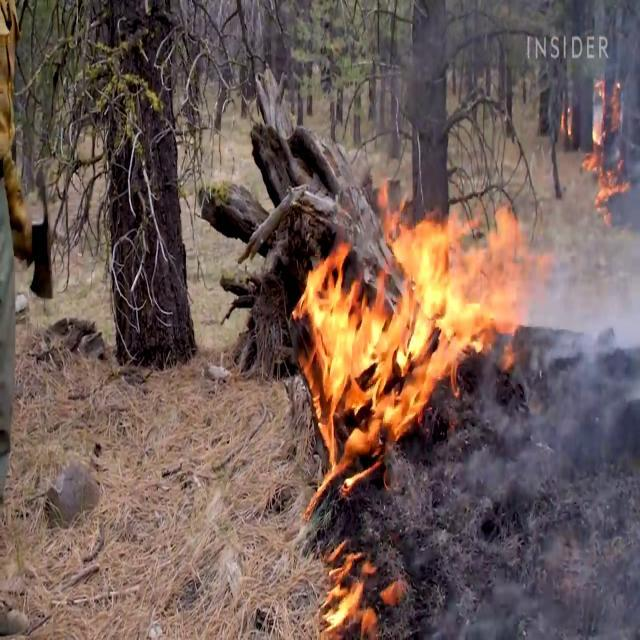Fire: (292, 197, 540, 482), (584, 56, 634, 212)
Smoke: (530, 218, 640, 392)
